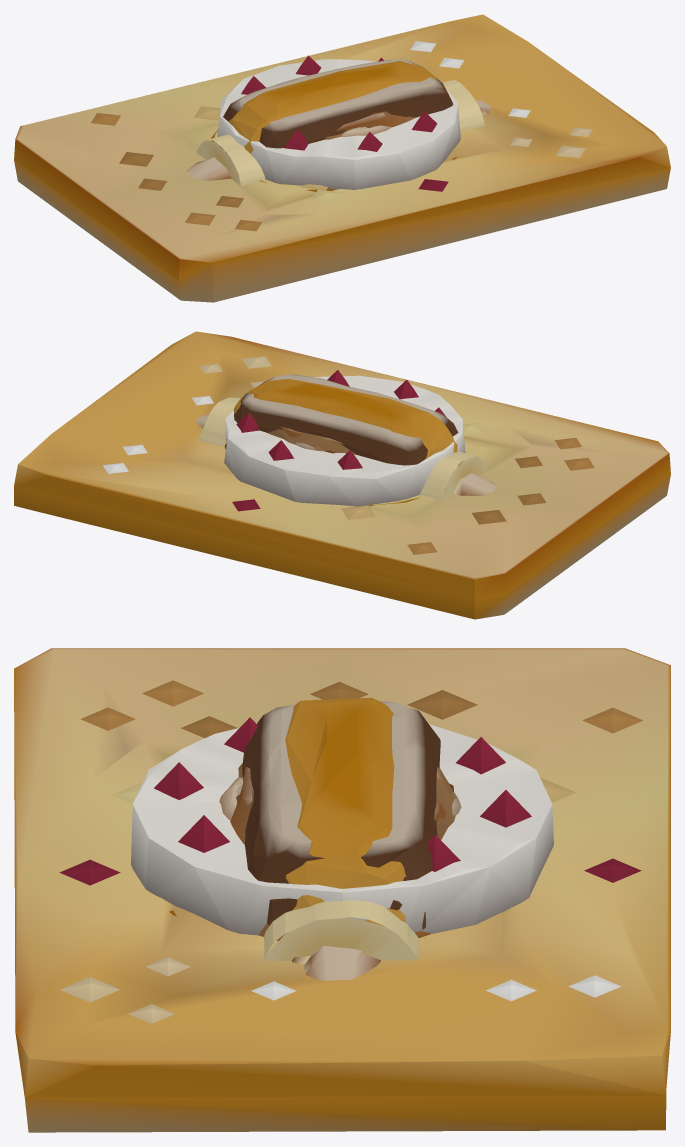
The model's file is _regal.glb.
3 views of the same model, one above another, from view 1: azimuth 30°, elevation 25°; view 2: azimuth 150°, elevation 25°; view 3: azimuth 270°, elevation 25° (orthographic). The views are drawn at different scales.
Parts seen in each view (by area): view 1: blechkuchen, schwarzwaelder-kirsch-torte, schwabenkorn-1000g, kasten-weissbrot, buttercreme-rolle, roggenflit-gross, mischbrot-1000g; view 2: blechkuchen, schwarzwaelder-kirsch-torte, schwabenkorn-1000g, kasten-weissbrot, buttercreme-rolle, roggenflit-gross, kornbrot-1000g; view 3: blechkuchen, schwarzwaelder-kirsch-torte, kasten-weissbrot, schwabenkorn-1000g, buttercreme-rolle, roggenflit-gross, mischbrot-1000g, kornbrot-1000g.
Part boxes in pixels (x1,y1,x2,y2): blechkuchen: [14, 14, 670, 302]; schwarzwaelder-kirsch-torte: [217, 55, 460, 189]; schwabenkorn-1000g: [223, 59, 452, 148]; kasten-weissbrot: [228, 61, 449, 153]; buttercreme-rolle: [197, 80, 484, 185]; roggenflit-gross: [186, 100, 491, 180]; mischbrot-1000g: [220, 113, 415, 154]; blechkuchen: [14, 331, 670, 619]; schwarzwaelder-kirsch-torte: [224, 370, 465, 506]; schwabenkorn-1000g: [226, 374, 458, 465]; kasten-weissbrot: [233, 379, 457, 458]; buttercreme-rolle: [199, 397, 486, 500]; roggenflit-gross: [195, 414, 496, 495]; kornbrot-1000g: [268, 429, 462, 465]; blechkuchen: [14, 648, 670, 1132]; schwarzwaelder-kirsch-torte: [131, 717, 553, 935]; kasten-weissbrot: [285, 697, 406, 926]; schwabenkorn-1000g: [242, 701, 440, 929]; buttercreme-rolle: [264, 900, 418, 960]; roggenflit-gross: [292, 946, 380, 980]; mischbrot-1000g: [230, 766, 445, 940]; kornbrot-1000g: [238, 763, 455, 935].
Size of the model in its own units: 0.5999 by 0.12 by 0.4.
